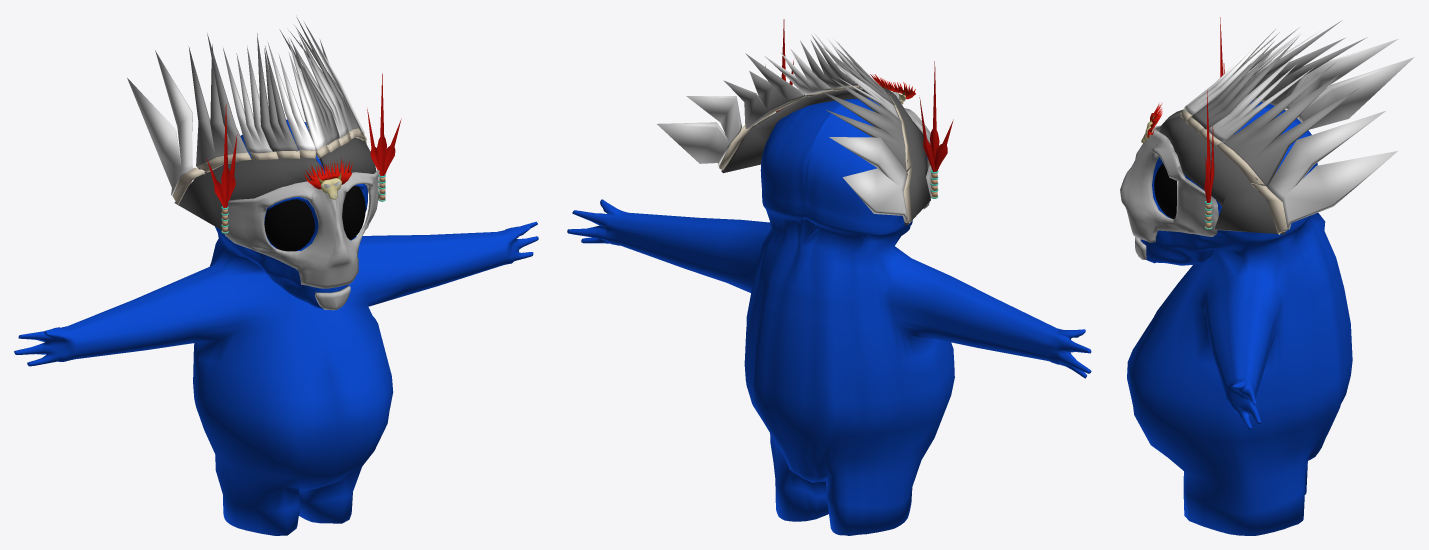
File: WitchDocAzorai.fbx
The picture shows the model from 3 angles, left to right: view 1: azimuth 30°, elevation 25°; view 2: azimuth 150°, elevation 25°; view 3: azimuth 270°, elevation 25°; orthographic projection. The views are drawn at different scales.
Visible parts, largest first — view 1: Azorai, mask, Eyes; view 2: Azorai, mask; view 3: Azorai, mask, Eyes.
Part boxes in pixels (x1,y1,x2,y2): Azorai: (14, 119, 538, 535); mask: (127, 17, 401, 310); Eyes: (264, 185, 365, 251); Azorai: (567, 97, 1091, 535); mask: (657, 19, 953, 225); Azorai: (1127, 100, 1352, 535); mask: (1120, 17, 1414, 259); Eyes: (1154, 163, 1176, 219).
Bounding box in the file's own units: 407 × 352 × 196.
